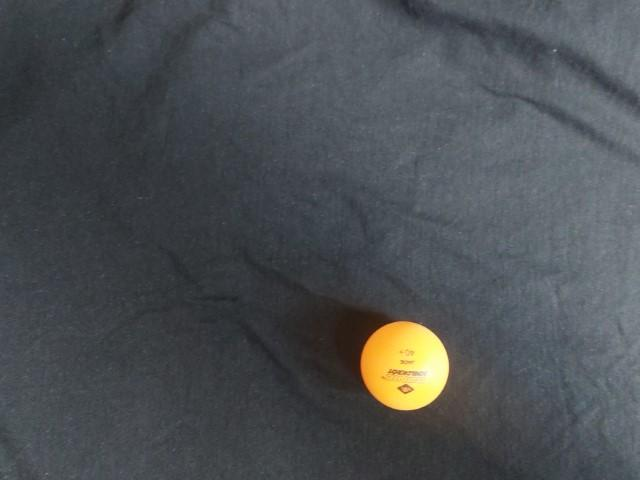oball: (183, 64, 289, 163)
